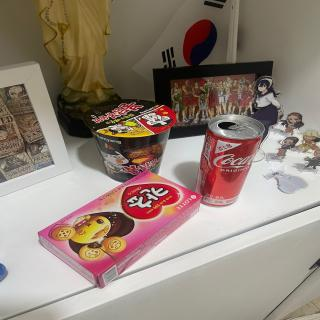cocacola: (187, 111, 274, 207)
